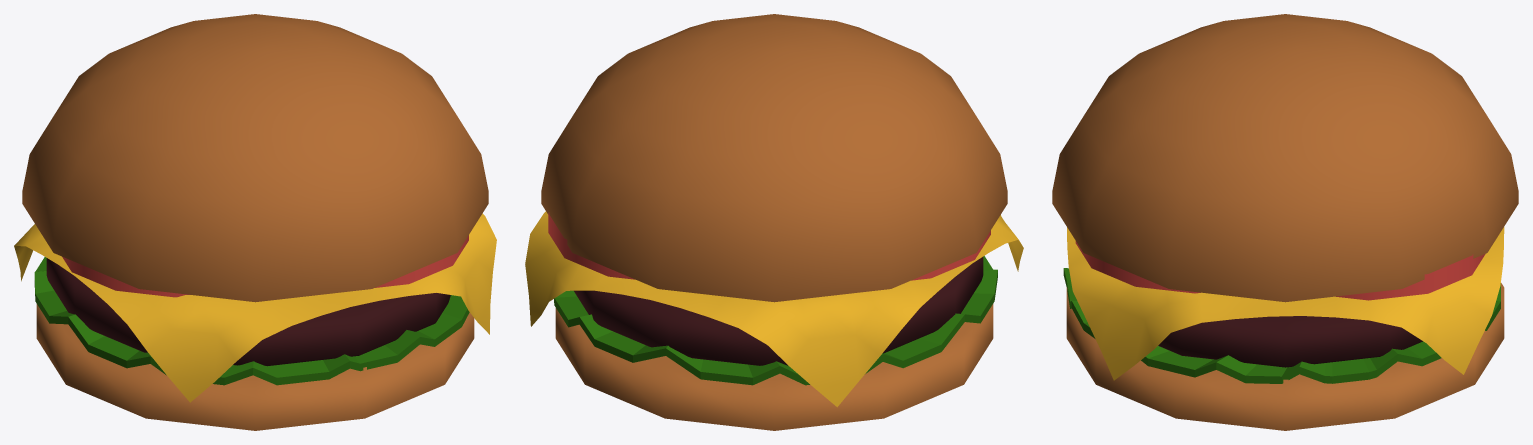
File: hambuerguesasa.fbx
The picture shows the model from 3 angles, left to right: view 1: azimuth 30°, elevation 25°; view 2: azimuth 150°, elevation 25°; view 3: azimuth 270°, elevation 25°; orthographic projection.
Visible parts, largest first — view 1: Cylinder, Cylinder.001, Plane.001, Cylinder.002, Plane, Cylinder.005, Cylinder.003; view 2: Cylinder, Plane.001, Cylinder.001, Cylinder.002, Plane, Cylinder.004, Cylinder.005; view 3: Cylinder, Plane.001, Cylinder.001, Cylinder.002, Plane, Cylinder.004, Cylinder.003.
Part boxes in pixels (box(x1,y1,x2,y2)): Cylinder: box(22, 14, 488, 302); Cylinder.001: box(36, 304, 474, 430); Plane.001: box(14, 213, 496, 402); Cylinder.002: box(46, 258, 450, 366); Plane: box(34, 257, 469, 385); Cylinder.005: box(62, 256, 189, 297); Cylinder.003: box(375, 235, 468, 287); Cylinder: box(541, 14, 1007, 302); Plane.001: box(525, 211, 1023, 407); Cylinder.001: box(555, 304, 993, 430); Cylinder.002: box(574, 257, 983, 365); Plane: box(554, 256, 997, 385); Cylinder.004: box(548, 212, 634, 279); Cylinder.005: box(911, 230, 990, 280); Cylinder: box(1052, 14, 1518, 302); Plane.001: box(1067, 227, 1504, 380); Cylinder.001: box(1066, 283, 1504, 430); Cylinder.002: box(1158, 316, 1422, 367); Plane: box(1063, 268, 1500, 383); Cylinder.004: box(1336, 254, 1485, 300); Cylinder.003: box(1075, 241, 1200, 293).
Bounding box in the file's own units: 176 × 122 × 176.
